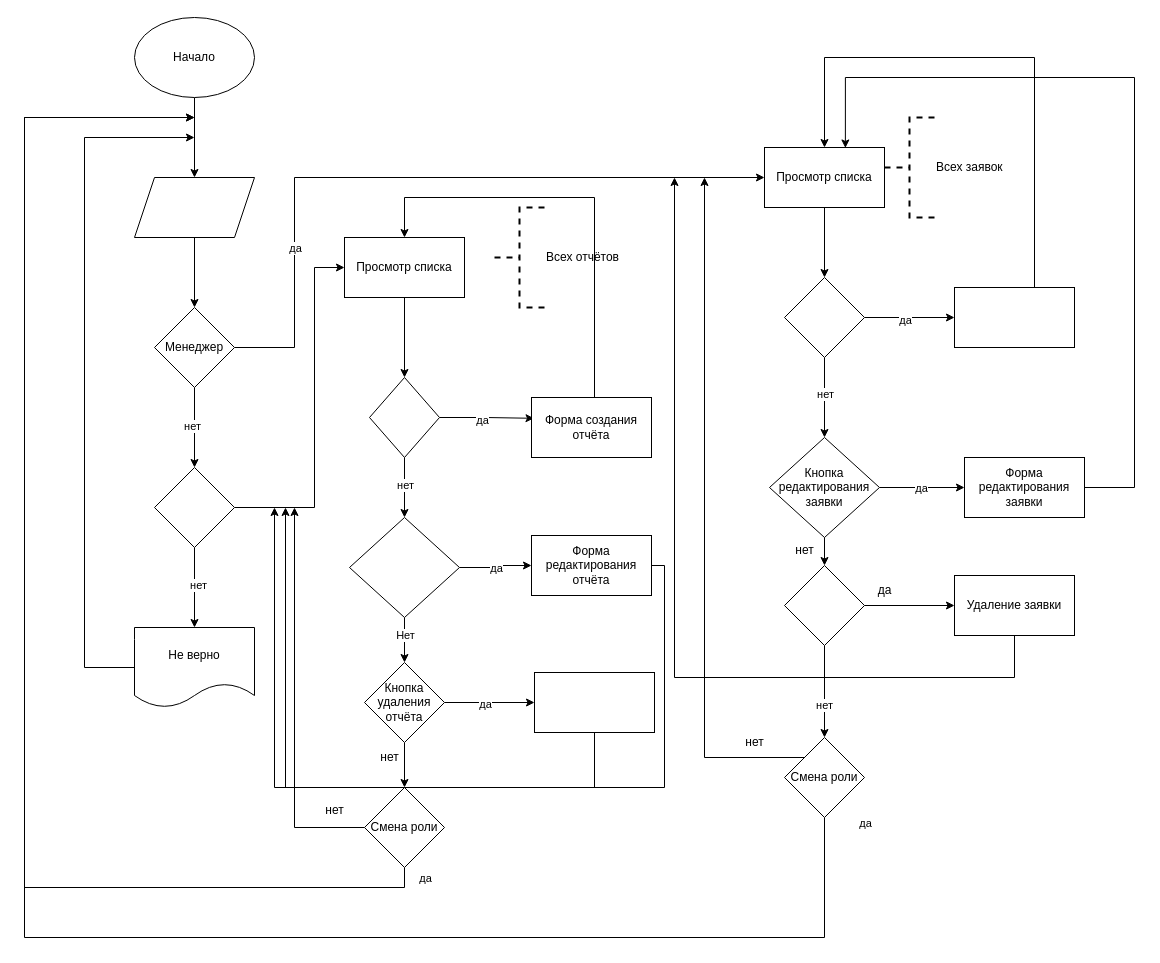
Image size: 1160x963. Some labels were removed from this diagram. Each missing label, with the centre of its shape:
Кнопка редактирования отчёта: the point at 404,567
Кнопка создать заявку: the point at 824,317
Кнопка создать отчёт: the point at 404,417
Кнопка удаления заявки: the point at 824,605
Логин, Пароль: the point at 194,207
Работник: the point at 194,507
Удаление отчёта: the point at 594,702
Форма создания заявки: the point at 1014,317
